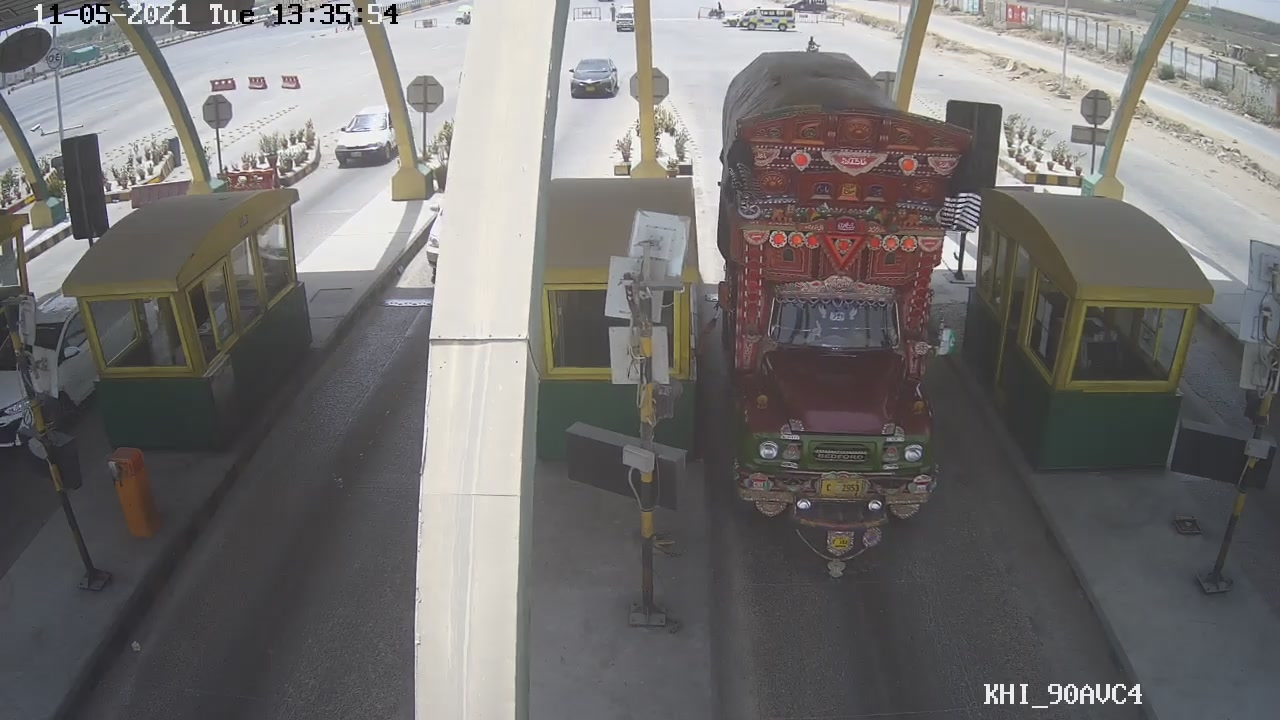F5: (712, 85, 985, 590)
